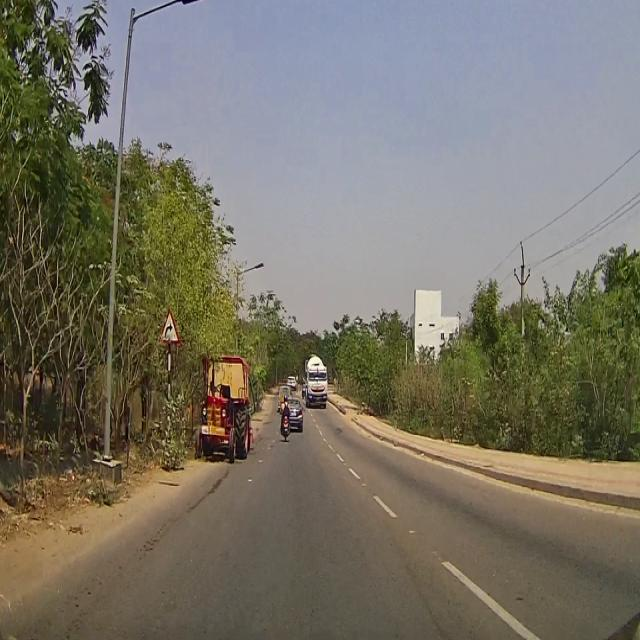right-hand-curve: (163, 311, 178, 343)
